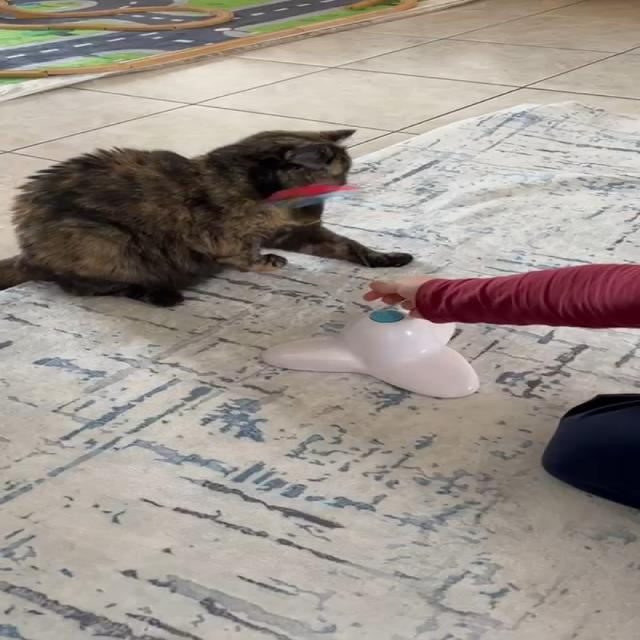authorized: (0, 126, 413, 307)
